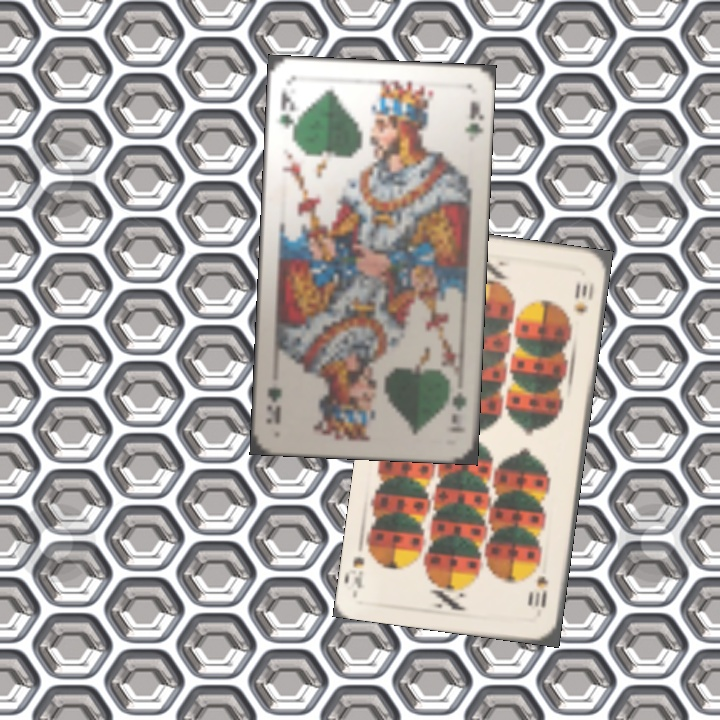GK: (274, 86, 300, 140), (447, 389, 470, 426)
S10: (530, 572, 550, 610)
